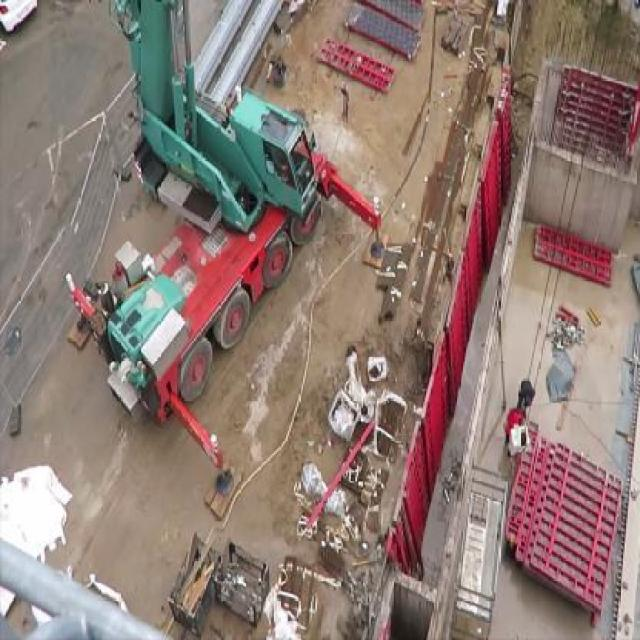Mobile Crane: (64, 0, 384, 498)
